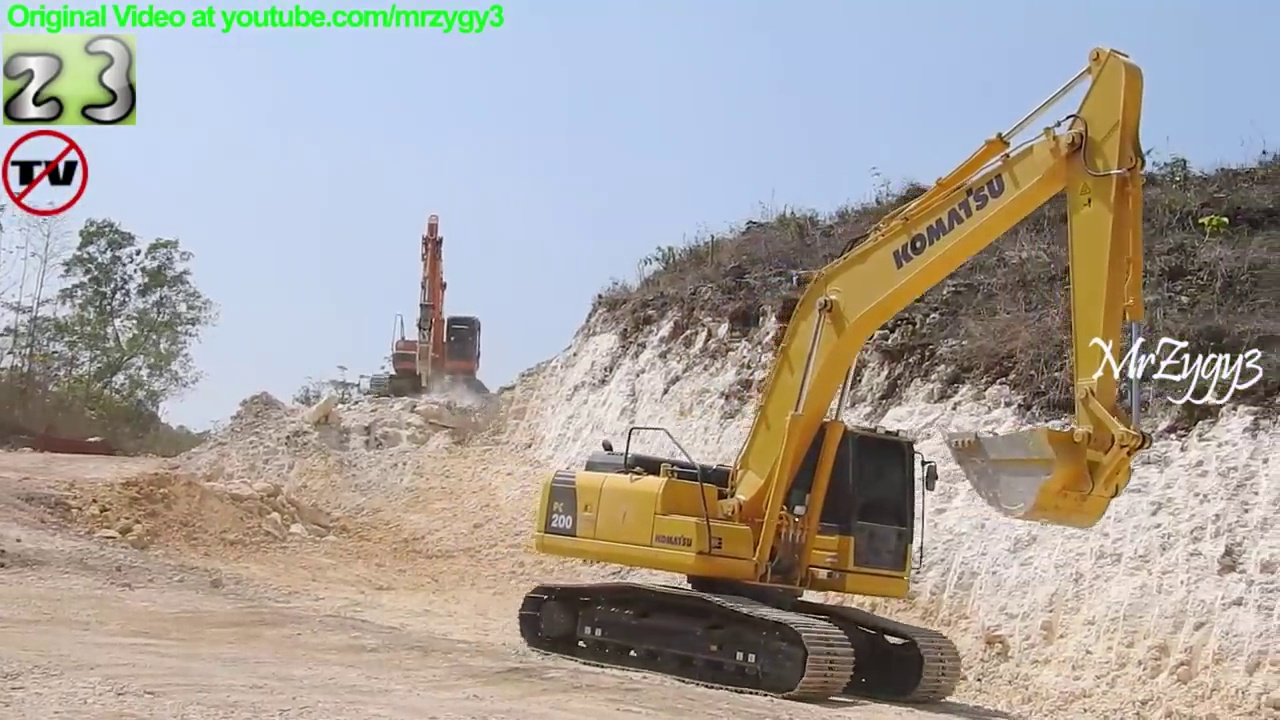excavator: (516, 38, 1161, 709), (362, 209, 492, 417)
truck: (30, 427, 117, 482)
